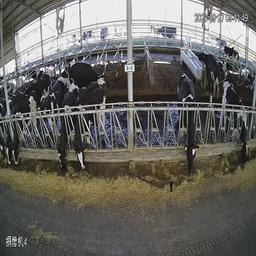cow: (74, 79, 108, 170), (176, 72, 198, 178), (10, 90, 40, 166), (221, 80, 248, 164), (37, 76, 65, 145), (57, 81, 78, 171), (70, 62, 110, 94), (197, 51, 219, 102)
